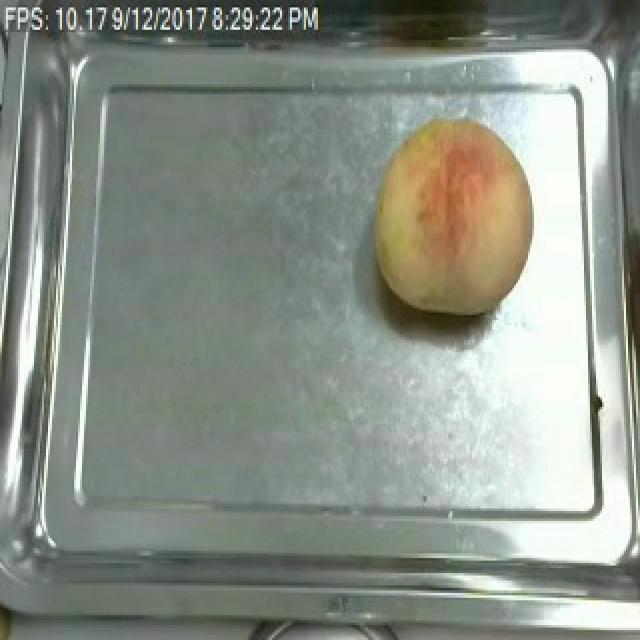Fruit: (364, 106, 542, 322)
